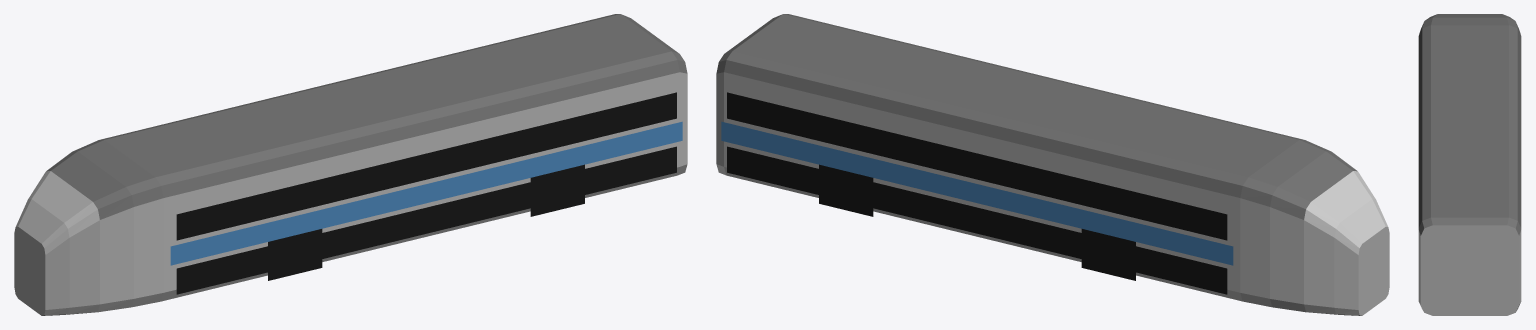
The model's file is rer_generic_B__cab.glb.
3 views of the same model, side by side, from view 1: azimuth 30°, elevation 25°; view 2: azimuth 150°, elevation 25°; view 3: azimuth 270°, elevation 25° (orthographic). The views are drawn at different scales.
Visible parts, largest first — view 1: rer_generic_B__cab; view 2: rer_generic_B__cab; view 3: rer_generic_B__cab.
Part boxes in pixels (x1=…): rer_generic_B__cab: x1=14, y1=14, x2=687, y2=315; rer_generic_B__cab: x1=716, y1=14, x2=1389, y2=315; rer_generic_B__cab: x1=1418, y1=14, x2=1521, y2=315.
Bounding box in the file's own units: 15 × 2.85 × 2.83.
